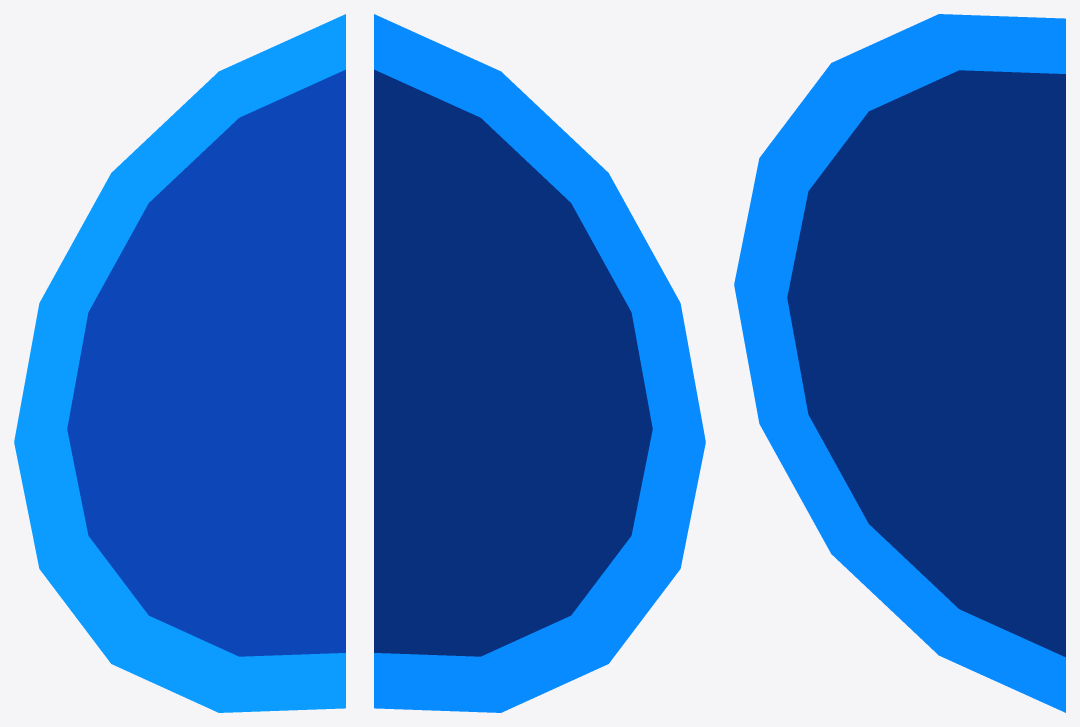
The model's file is name_BG_blue_right.glb.
3 views of the same model, side by side, from view 1: azimuth 30°, elevation 25°; view 2: azimuth 150°, elevation 25°; view 3: azimuth 330°, elevation 25° (orthographic).
Parts seen in each view (by area): view 1: name_blue_BG_cap_r; view 2: name_blue_BG_cap_r; view 3: name_blue_BG_cap_r.
Part boxes in pixels (x1,y1,x2,y2): name_blue_BG_cap_r: (14,14,345,712); name_blue_BG_cap_r: (374,14,705,712); name_blue_BG_cap_r: (734,14,1065,712).
Size of the model in its own units: 0.4522 by 0.9045 by 9.29e-08.
